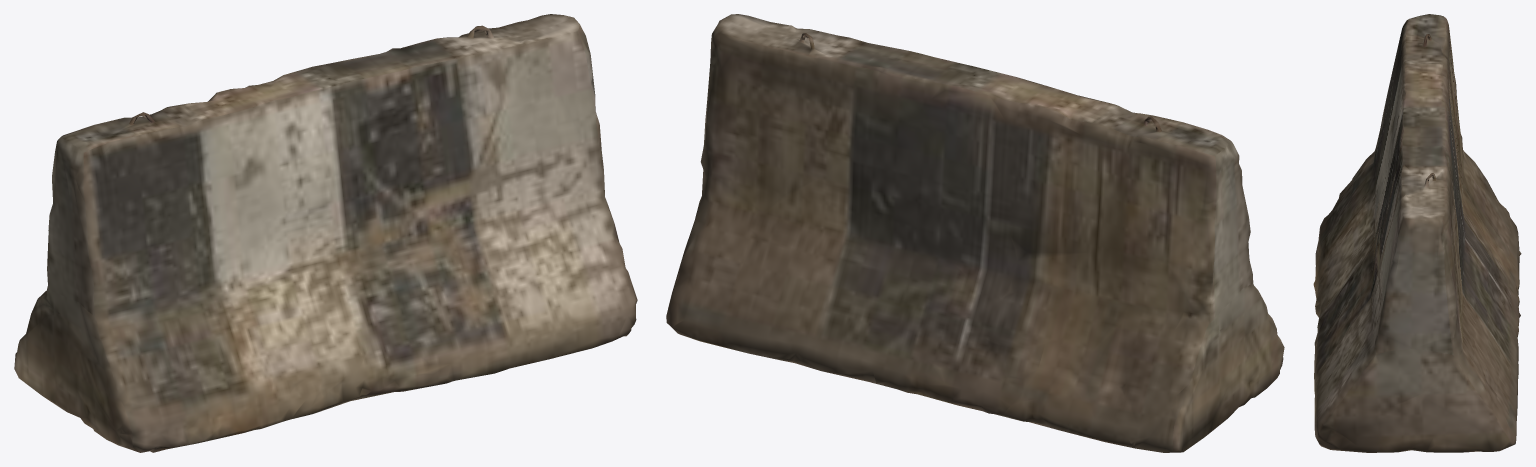
The model's file is barrier-concrete.lite.484f7e92.glb.
The picture shows the model from 3 angles, left to right: view 1: azimuth 30°, elevation 25°; view 2: azimuth 150°, elevation 25°; view 3: azimuth 270°, elevation 25°; orthographic projection. The views are drawn at different scales.
Visible parts, largest first — view 1: model; view 2: model; view 3: model.
Boxes of the visible parts, x1=… form: model: x1=14, y1=14, x2=637, y2=452; model: x1=666, y1=14, x2=1284, y2=452; model: x1=1313, y1=14, x2=1521, y2=452.
Size of the model in its own units: 1.54 by 0.8303 by 0.6387.
Materials: 1 (1 with a texture image).
